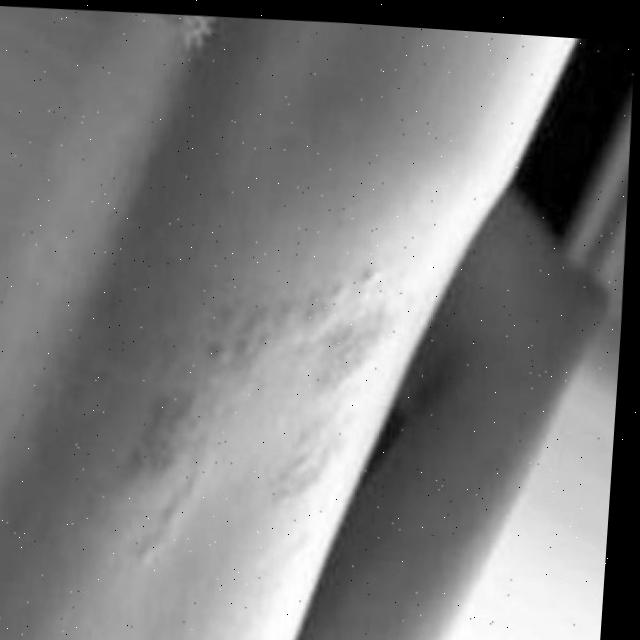Shingles: (118, 263, 395, 546)
